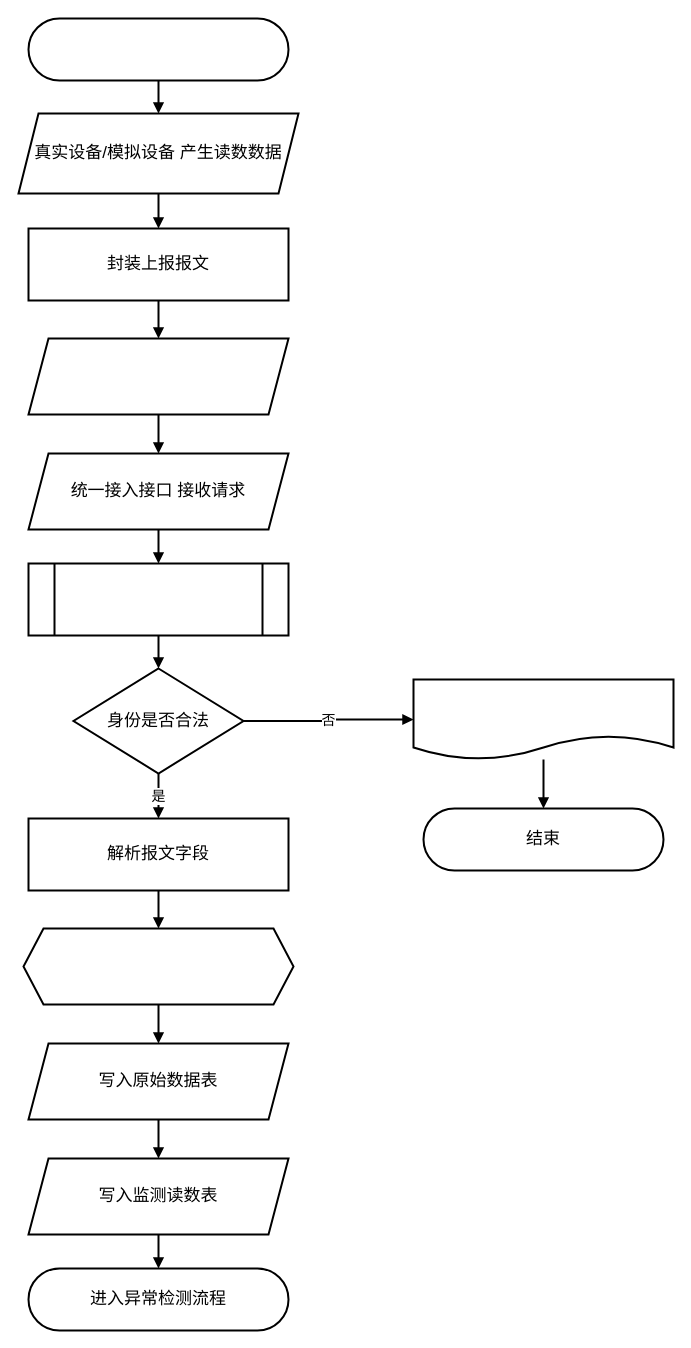
Some shapes in this 691 by 1348 pixel diagram are drawn without their labels. Here are the shapes that lost their labels. From the top down, the centre of each, then its label:
At (158,49): "开始".
At (158,376): "HTTP/JSON 上报数据".
At (158,599): "设备身份校验".
At (543,719): "记录传输失败日志".
At (158,966): "数据格式转换".
